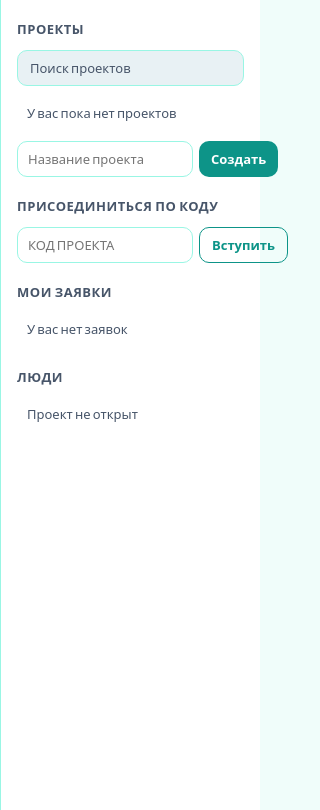
Sidebar › shows a confirmation message after a successful join request
Type "AAAAAAAA" into the field labelled "Код проекта" at x=105, y=244, box x1=17 y1=226 x2=193 y2=262
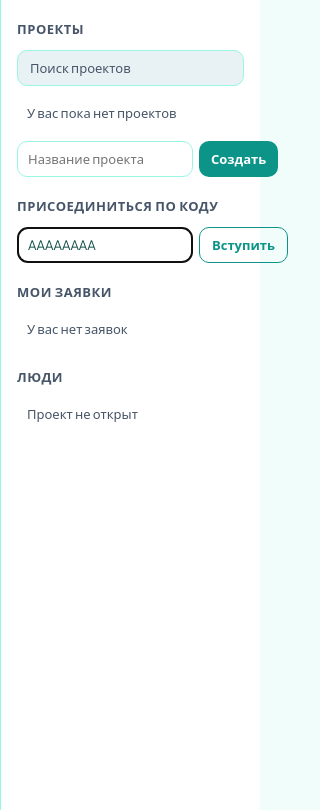
Click the button "Вступить" at x=244, y=244, box x1=199 y1=226 x2=288 y2=262
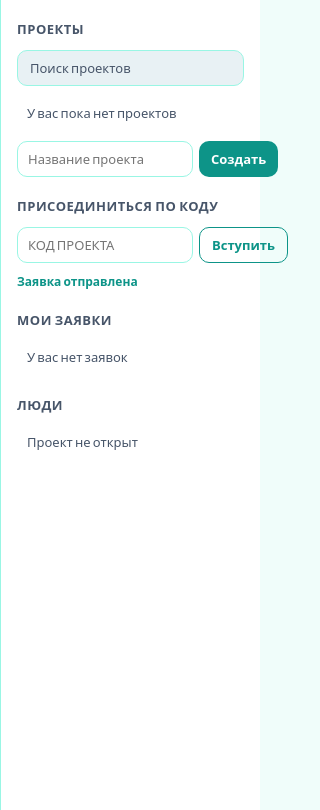
Expected: the text "Заявка отправлена" is shown, x1=17 y1=274 x2=138 y2=288
